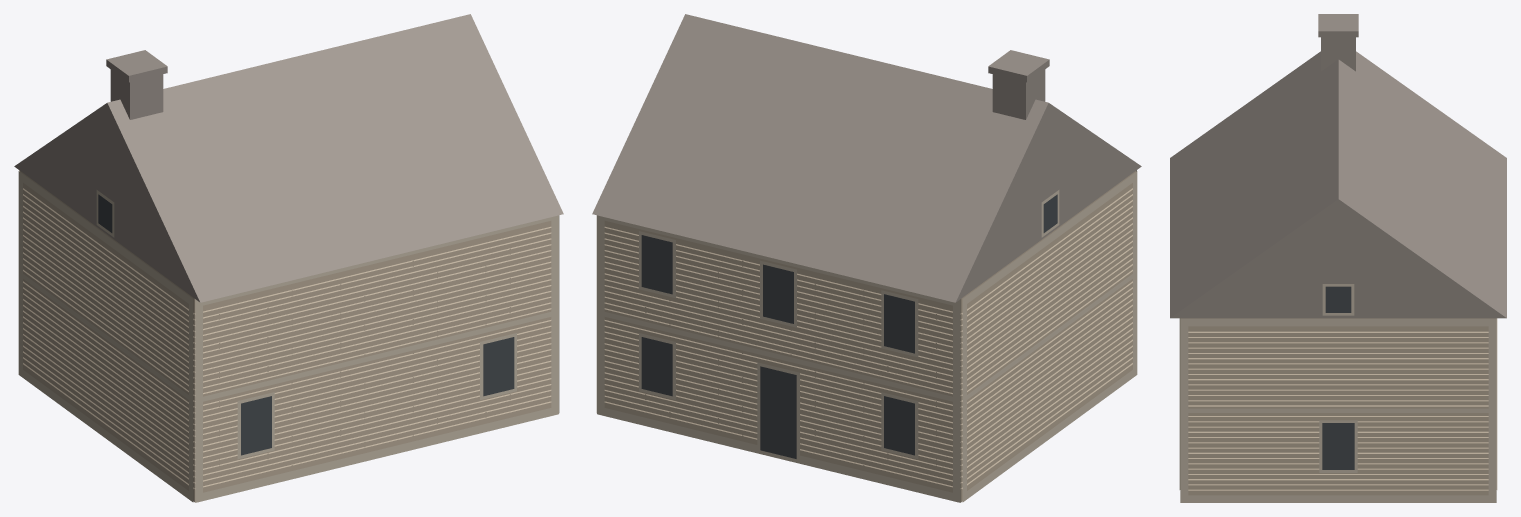
File: temple_building__frame_1833.glb
The picture shows the model from 3 angles, left to right: view 1: azimuth 30°, elevation 25°; view 2: azimuth 150°, elevation 25°; view 3: azimuth 270°, elevation 25°; orthographic projection. The views are drawn at different scales.
Parts seen in each view (by area): view 1: temple_building__frame_1833; view 2: temple_building__frame_1833; view 3: temple_building__frame_1833.
Part boxes in pixels (left/top/right/bottom): temple_building__frame_1833: left=14, top=14, right=563, bottom=502; temple_building__frame_1833: left=592, top=14, right=1141, bottom=502; temple_building__frame_1833: left=1170, top=14, right=1506, bottom=502.
Bounding box in the file's own units: 9.24 × 8.85 × 8.12.
